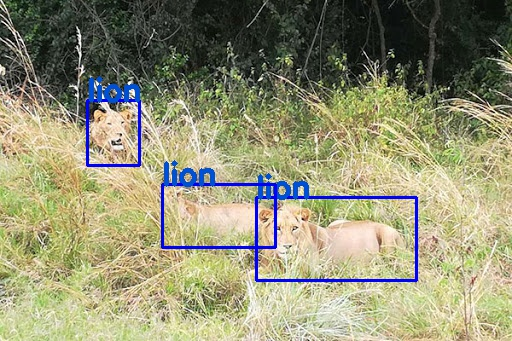lion: (256, 196, 416, 279), (162, 184, 275, 247), (87, 99, 138, 165)
